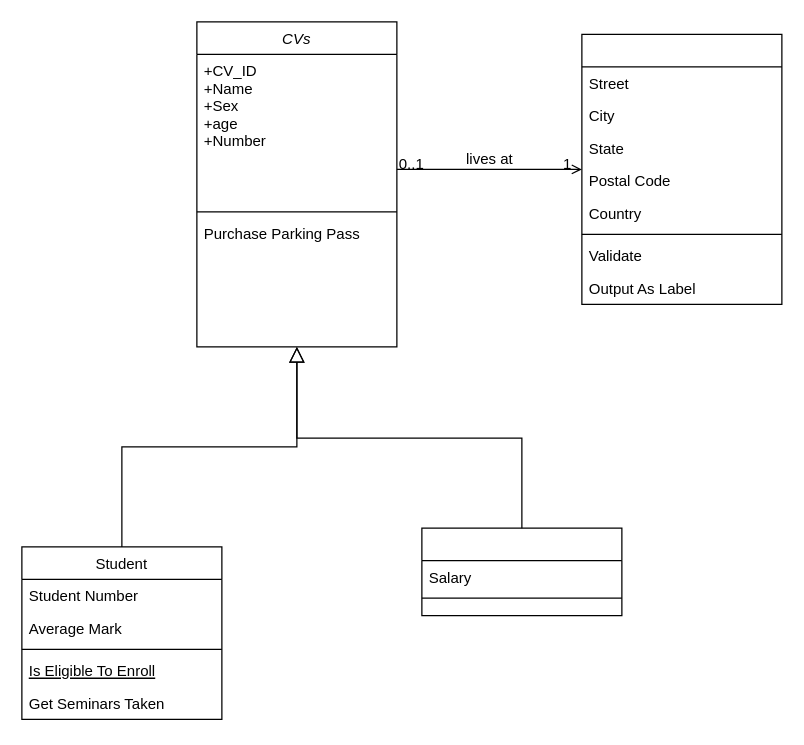
This 804x745 diagram has some shape labels left out. The shapes that lost their labels are listed below. From the top down, each one's box as (x1, y1, x2, y2) in pixels, then its label:
(581, 33, 782, 304): Address
(421, 527, 622, 616): Professor
